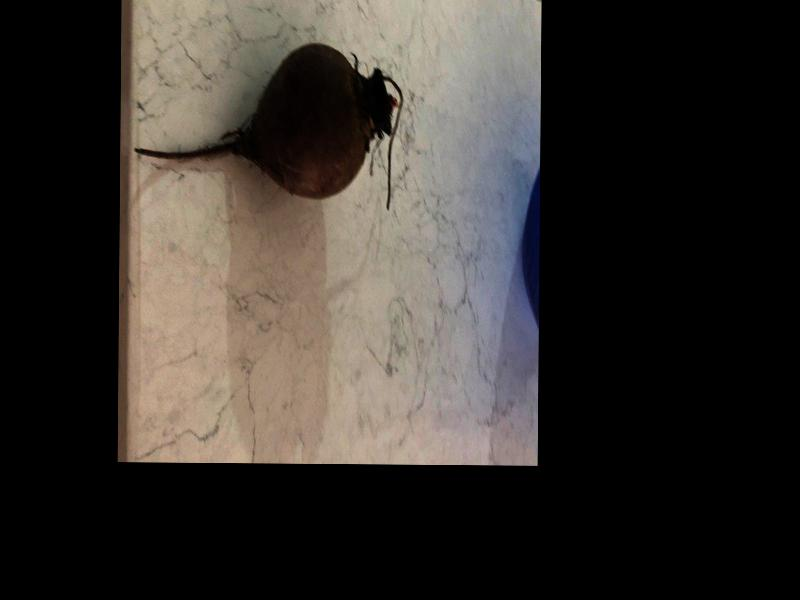Beet: (134, 43, 404, 211)
